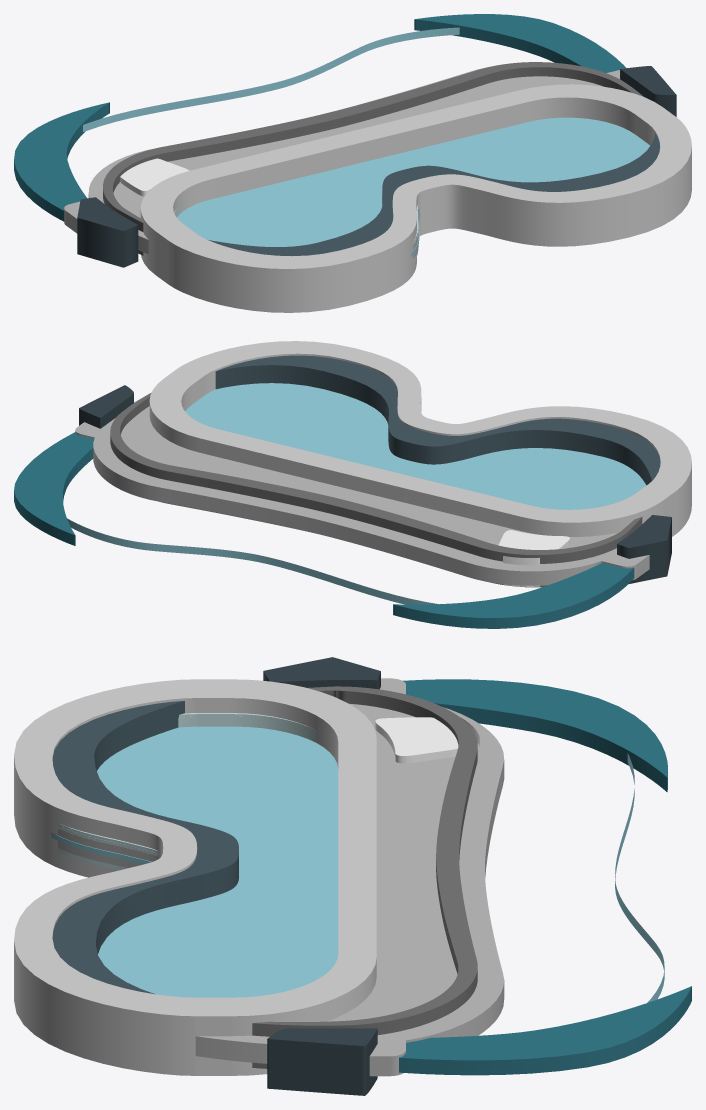
The model's file is emoji_u1f97d.glb.
3 renders of one model, top to bottom at view 1: azimuth 30°, elevation 25°; view 2: azimuth 150°, elevation 25°; view 3: azimuth 270°, elevation 25°, orthographic. The views are drawn at different scales.
Visible parts, largest first — view 1: emoji_u1f97d; view 2: emoji_u1f97d; view 3: emoji_u1f97d.
Part boxes in pixels (<box>): emoji_u1f97d: <box>14,14,691,312</box>; emoji_u1f97d: <box>14,341,691,628</box>; emoji_u1f97d: <box>14,657,691,1095</box>.
Bounding box in the file's own units: 0.0336 × 0.0024 × 0.0247.
